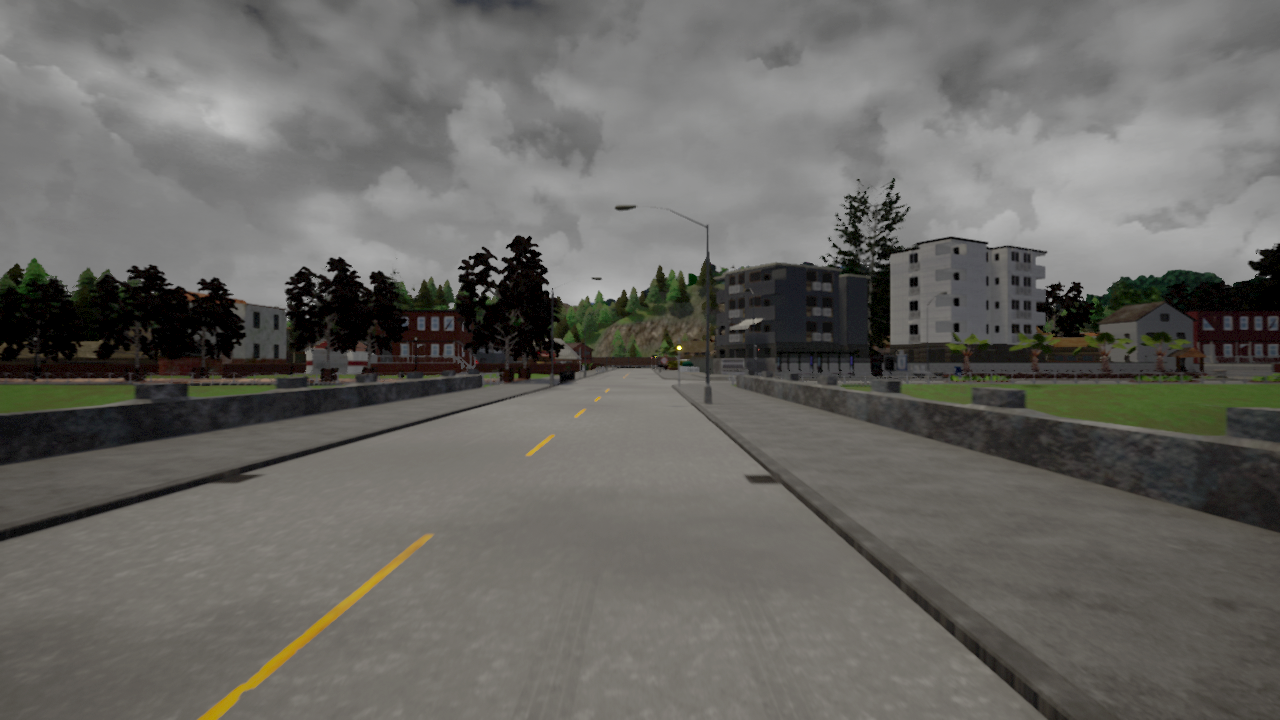yellow: (675, 340, 683, 355)
